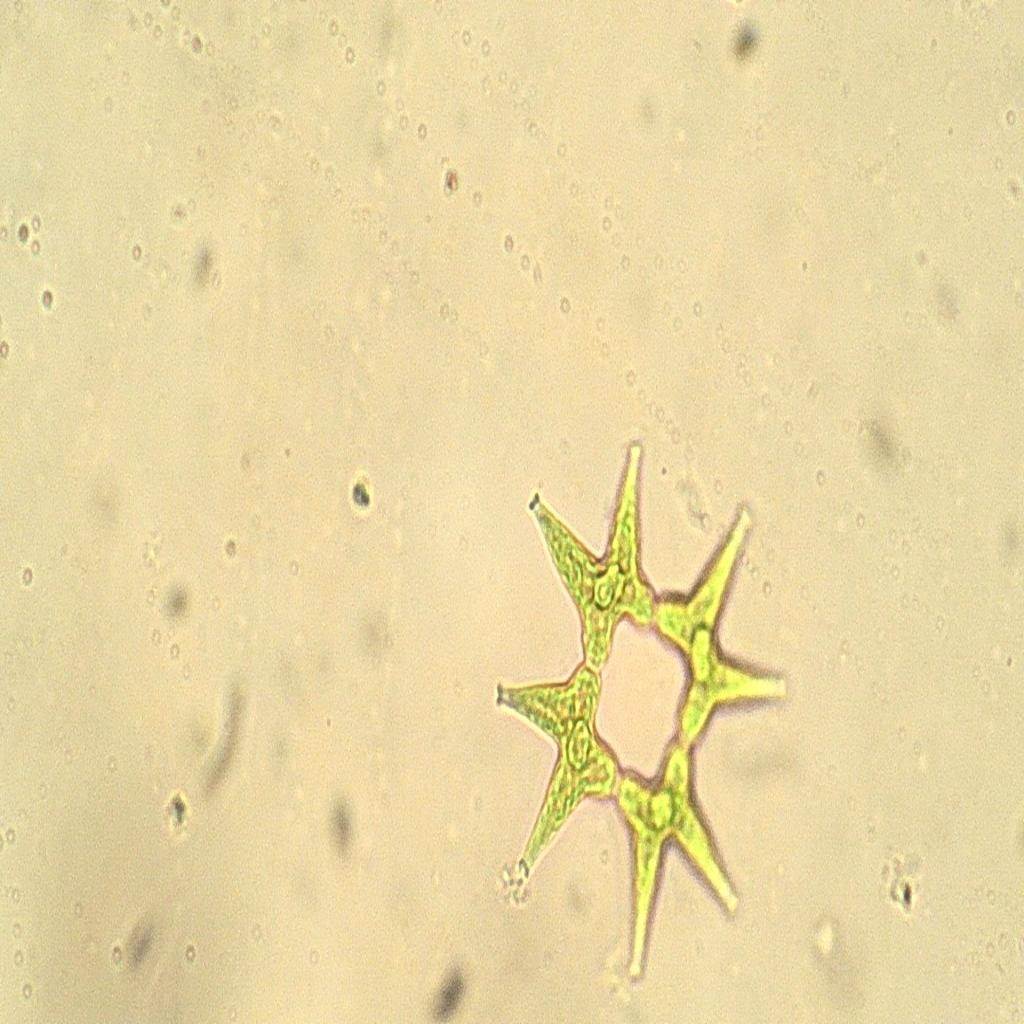Pediastrum_75O: (476, 423, 805, 988)
